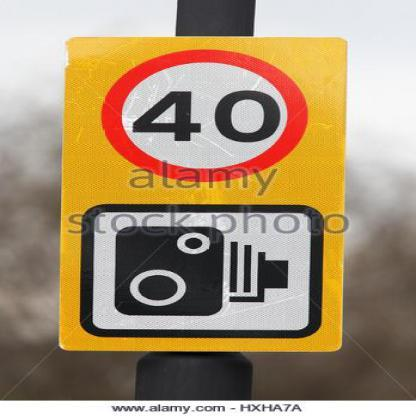Speed Limit 40: (103, 51, 304, 179)
